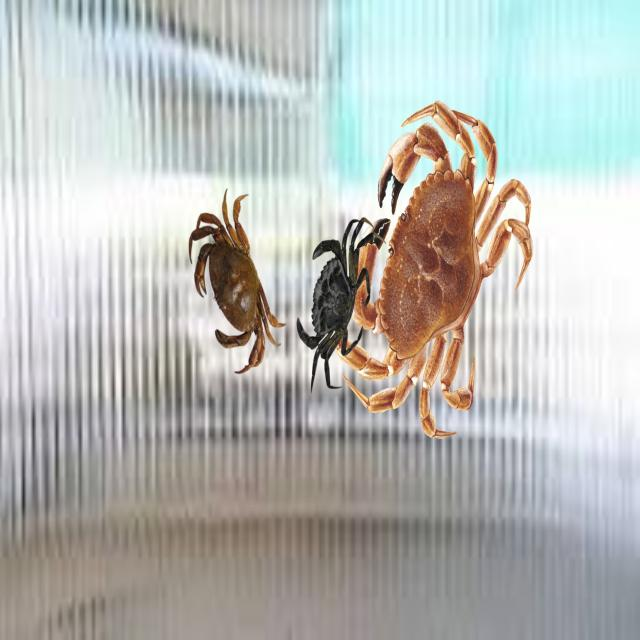European_Green_Crab: (288, 199, 381, 405)
